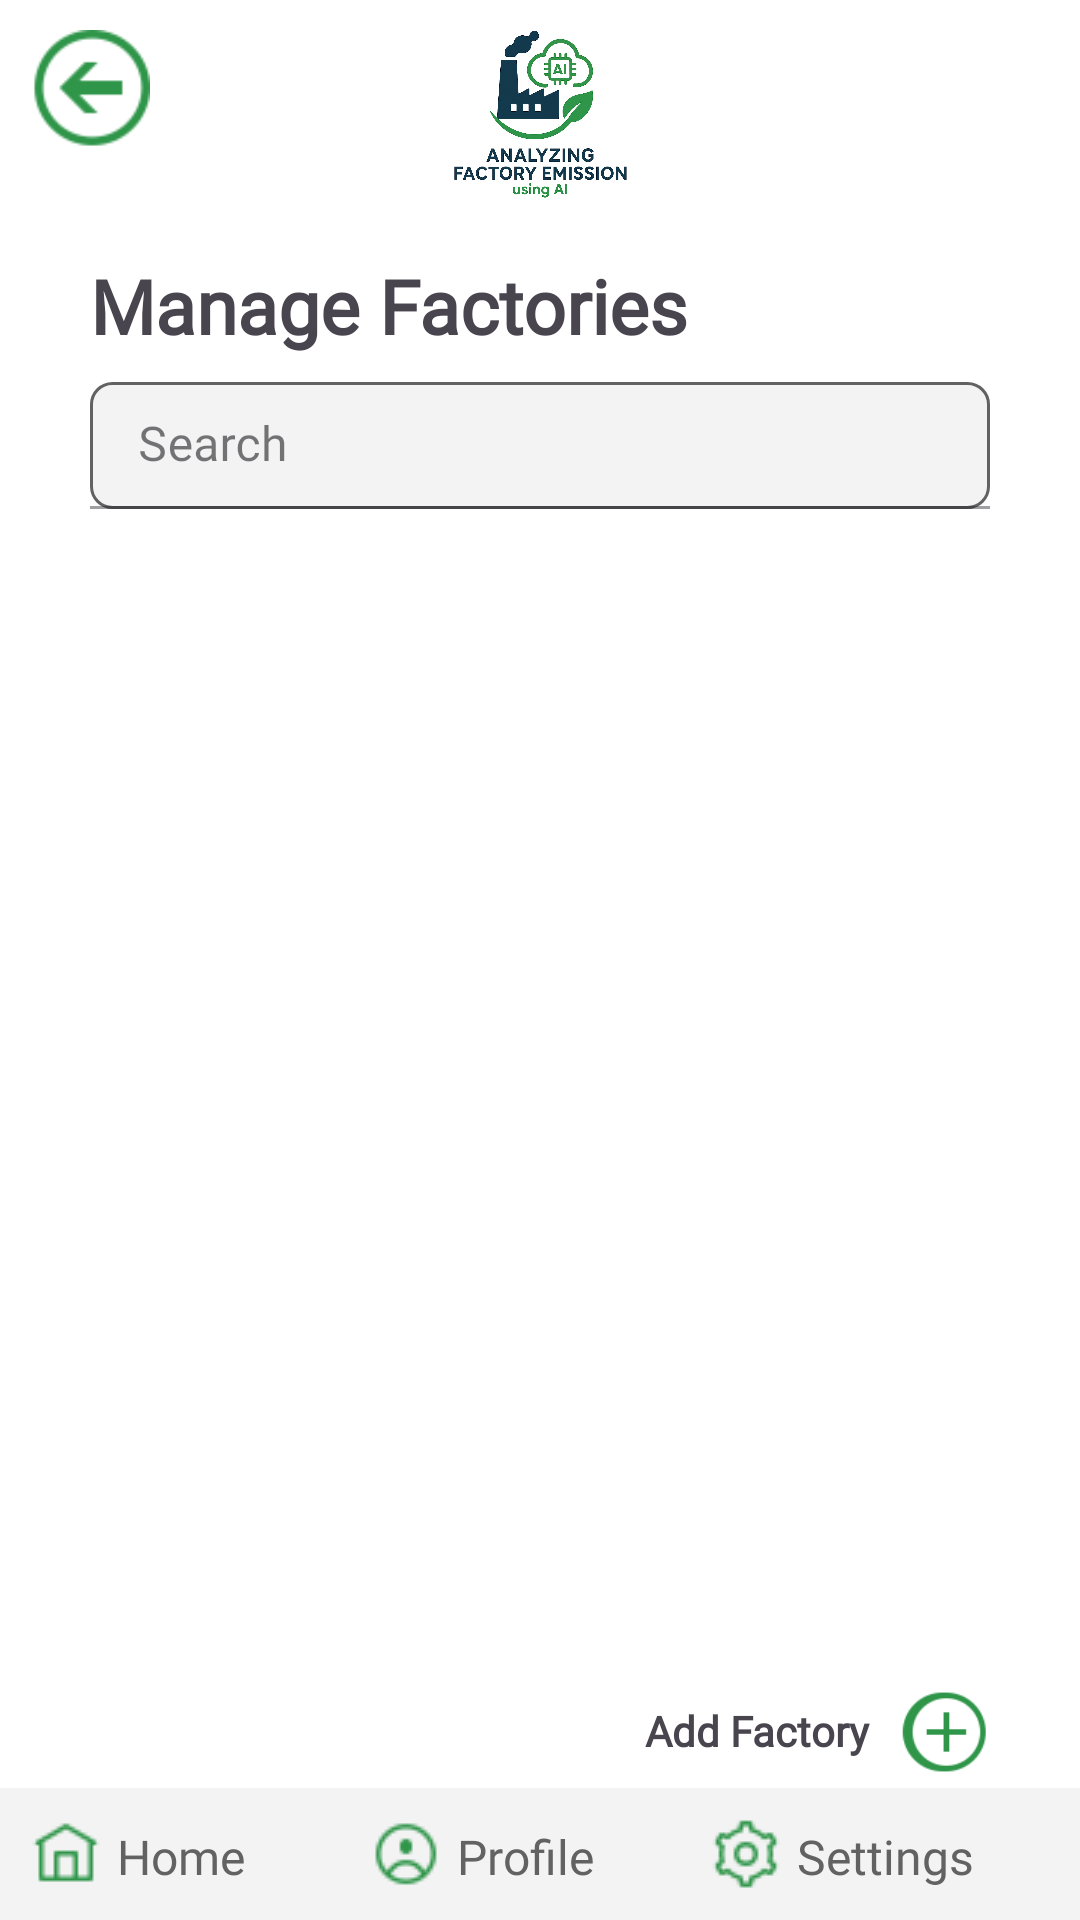

Locate icon controls on the screen. Image size 1080*1920, boxes as bbox=[x1, y1, x2, y2].
back: bbox=[34, 30, 150, 146]
